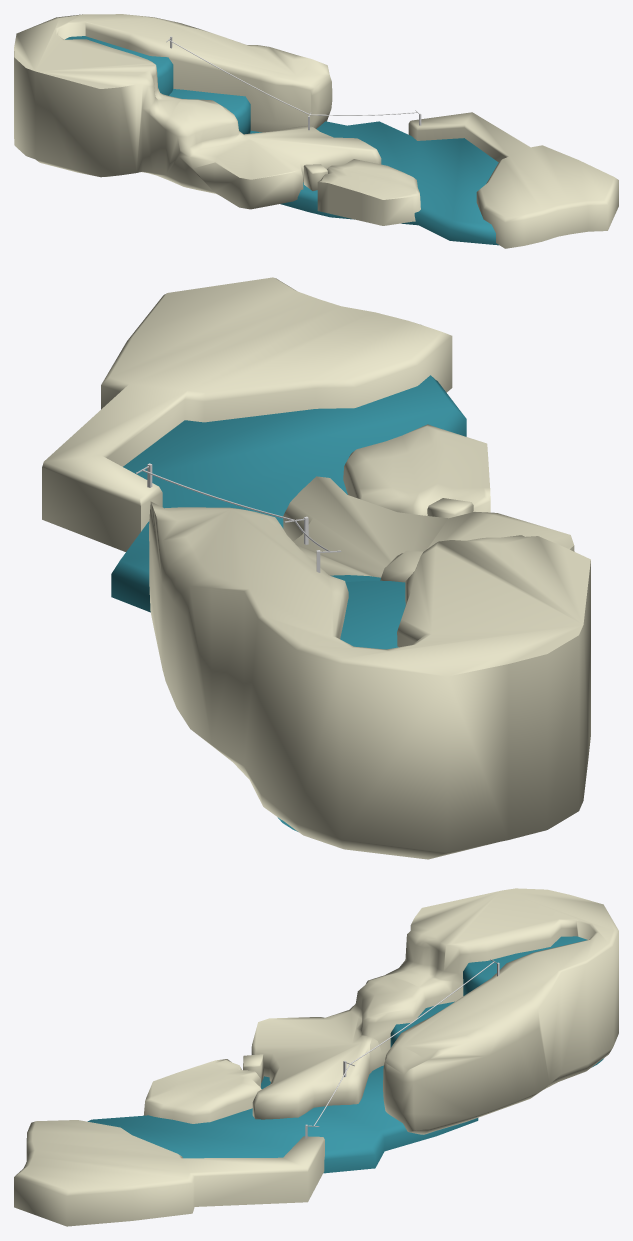
Rendered from map.fbx.
3 renders of one model, top to bottom at view 1: azimuth 30°, elevation 25°; view 2: azimuth 150°, elevation 25°; view 3: azimuth 270°, elevation 25°, orthographic. The views are drawn at different scales.
Visible parts, largest first — view 1: Plane, Plane.003, Plane.005, Plane.002, Cylinder.003, Cylinder.002, Plane.001, NurbsPath; view 2: Plane, Plane.003, Plane.005, Plane.002, Cylinder.002; view 3: Plane, Plane.003, Plane.005, Plane.002, Cylinder.002, Cylinder.003.
Boxes of the visible parts, x1=… form: Plane: x1=14, y1=14, x2=381, y2=209; Plane.003: x1=408, y1=112, x2=618, y2=248; Plane.005: x1=250, y1=121, x2=498, y2=245; Plane.002: x1=317, y1=159, x2=420, y2=225; Cylinder.003: x1=169, y1=89, x2=250, y2=134; Cylinder.002: x1=65, y1=36, x2=173, y2=95; Plane.001: x1=303, y1=164, x2=327, y2=190; NurbsPath: x1=169, y1=39, x2=417, y2=115; Plane: x1=149, y1=476, x2=590, y2=859; Plane.003: x1=42, y1=277, x2=452, y2=551; Plane.005: x1=111, y1=375, x2=466, y2=612; Plane.002: x1=343, y1=424, x2=490, y2=515; Cylinder.002: x1=277, y1=580, x2=405, y2=831; Plane: x1=251, y1=888, x2=618, y2=1134; Plane.003: x1=14, y1=1120, x2=324, y2=1226; Plane.005: x1=87, y1=1065, x2=478, y2=1173; Plane.002: x1=143, y1=1059, x2=261, y2=1123; Cylinder.002: x1=463, y1=936, x2=603, y2=1067; Cylinder.003: x1=390, y1=1001, x2=454, y2=1047.
Bounding box in the file's own units: 55015 × 13114 × 61773.
